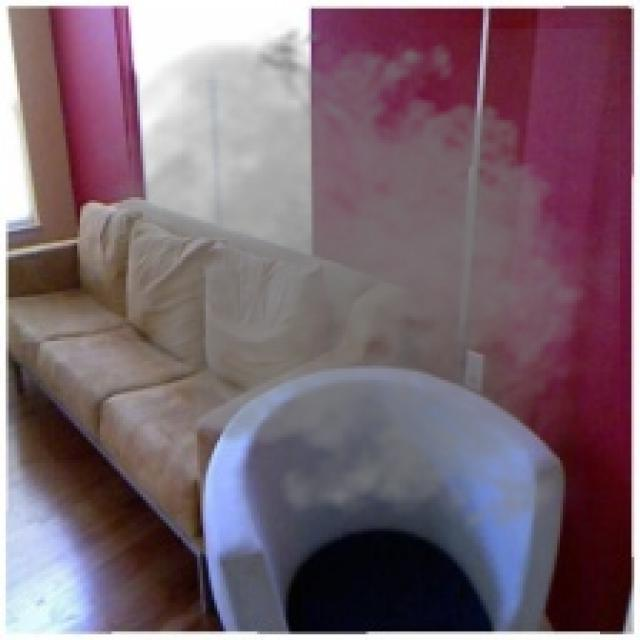Smoke: (65, 17, 620, 546)
